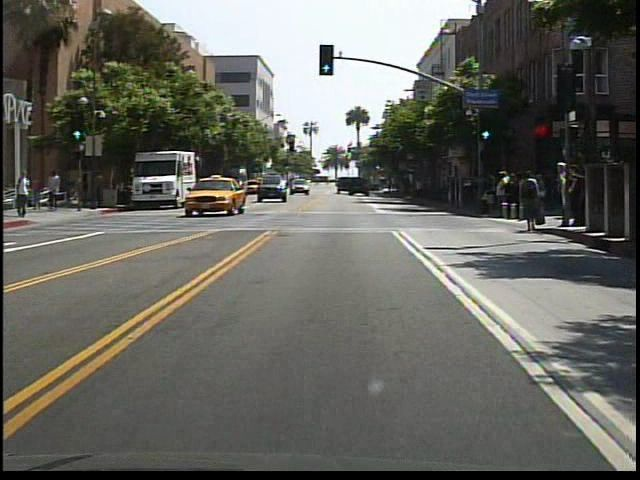person: (516, 168, 544, 235), (17, 168, 36, 220), (47, 167, 66, 214), (93, 170, 110, 210), (33, 171, 49, 213), (81, 170, 93, 207)
